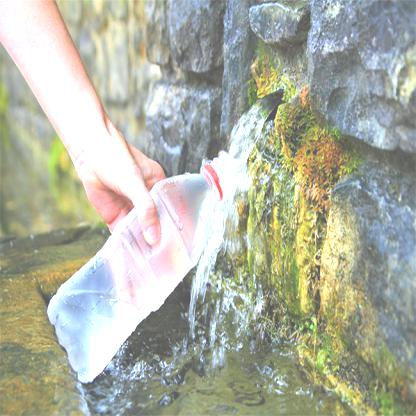bottle: (45, 136, 225, 390)
